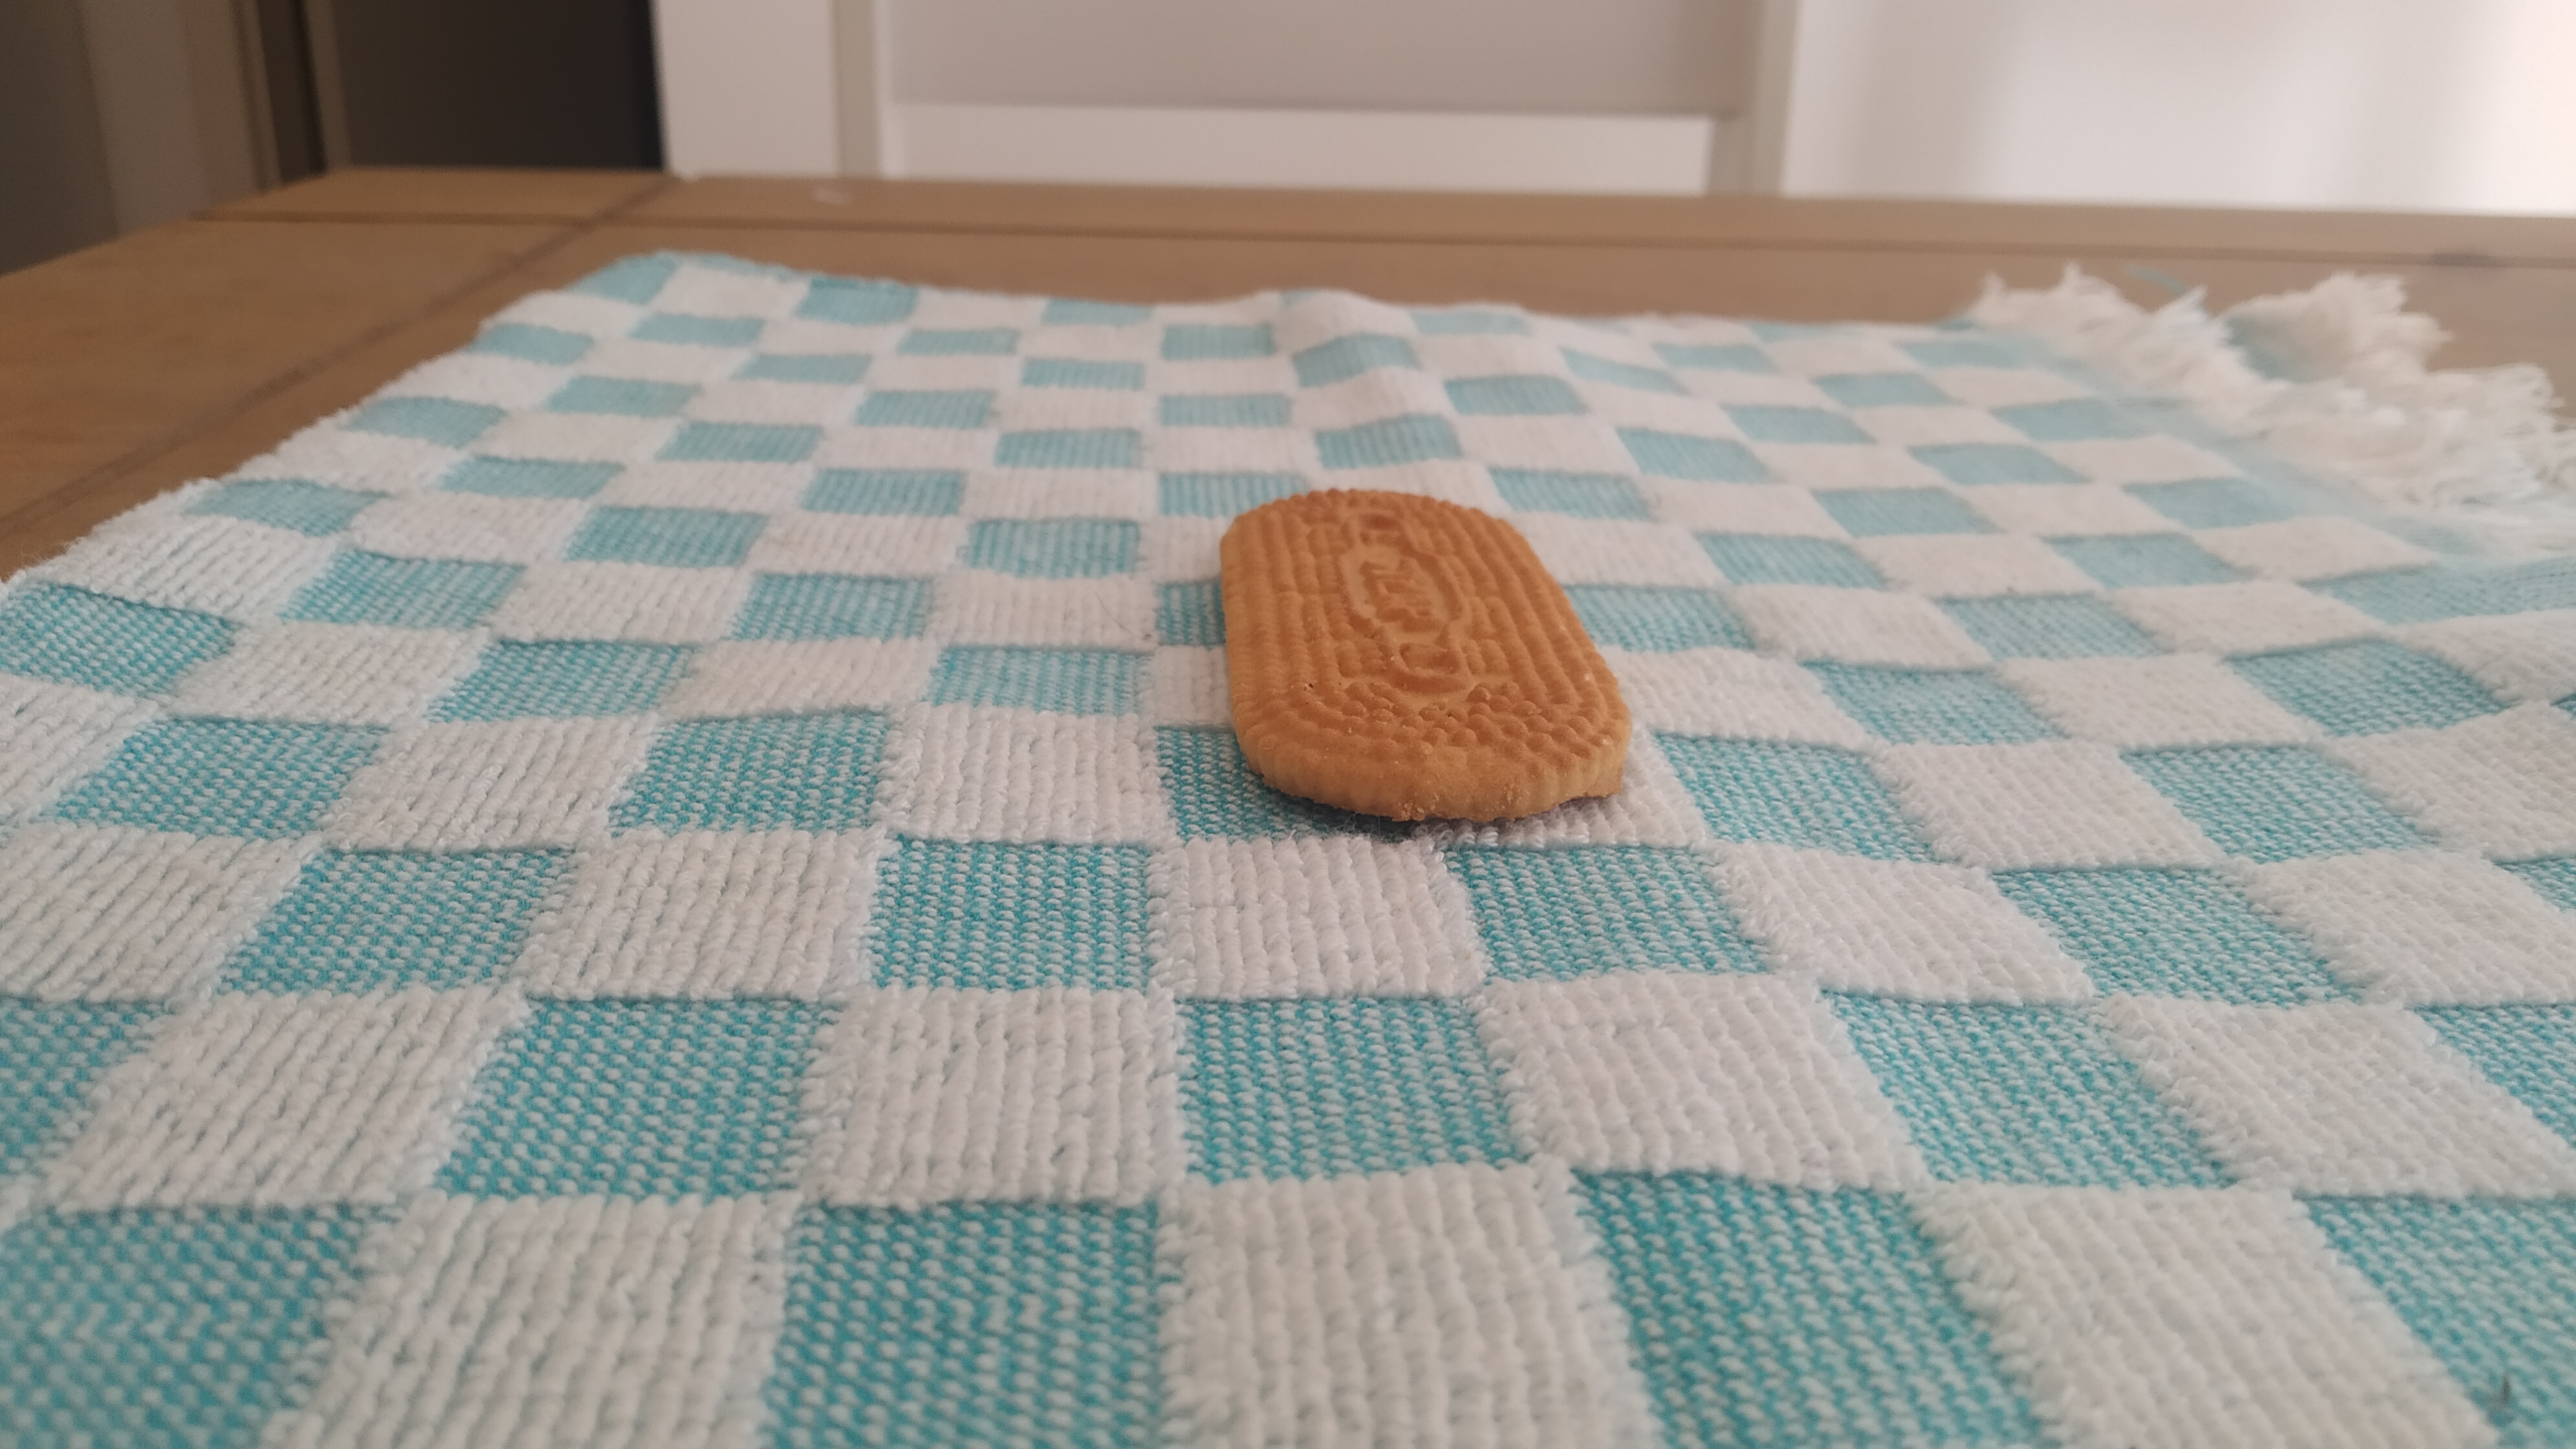solar: (1217, 488, 1633, 821)
